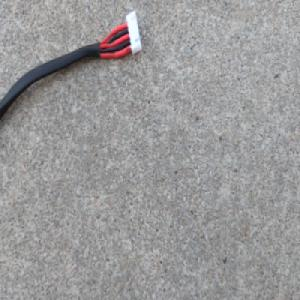Wire: (0, 6, 144, 124)
